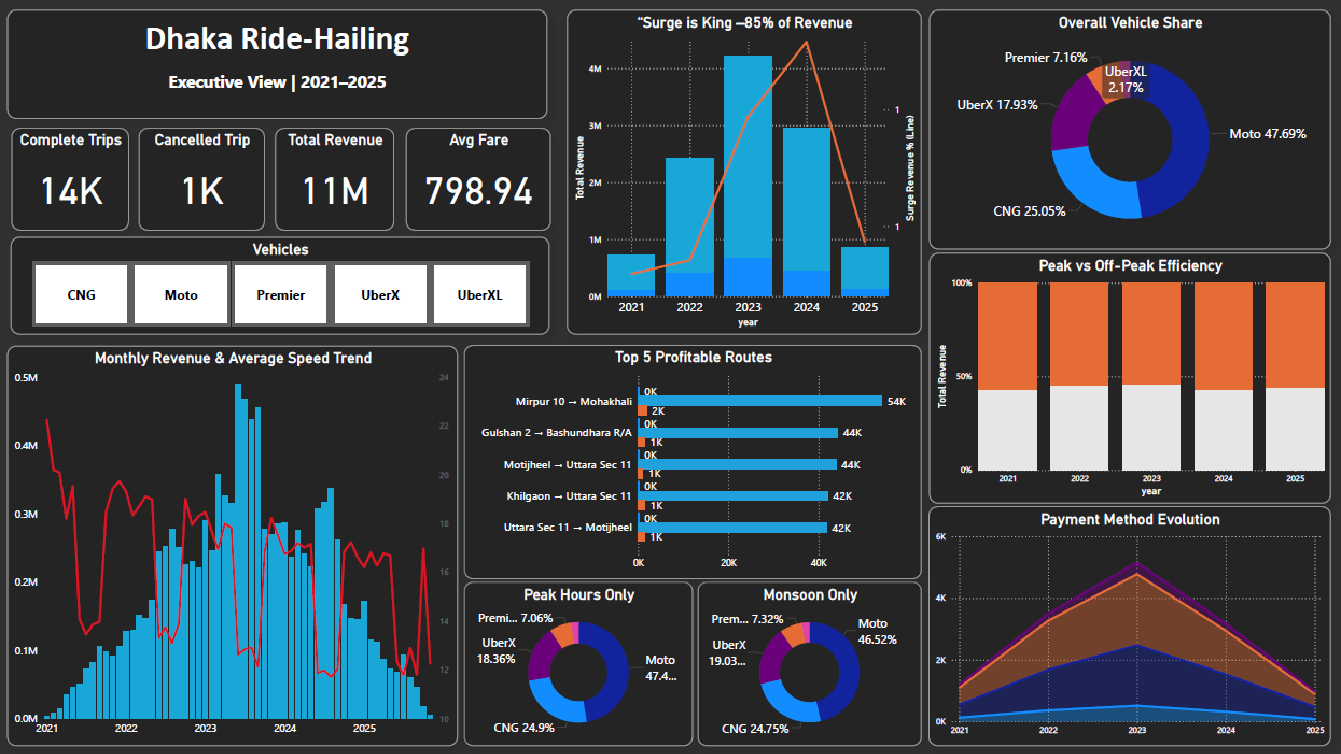

The page's visual inventory and layout, read from the dashboard file:
{"tool":"powerbi","page":{"name":"Page 1","canvas":[1920,1080],"ordinal":0},"visuals":[{"type":"cardVisual","title":"Complete Trips","fields":{"Data":["trips.Completed Trips"]},"box":[14.6,182.8,168.6,147.1],"z":0},{"type":"cardVisual","title":"Cancelled Trip","fields":{"Data":["trips.Cancelled Trips"]},"box":[197.5,182.8,180,147.1],"z":1000},{"type":"cardVisual","title":"Total Revenue","fields":{"Data":["trips.Total Revenue"]},"box":[391.8,182.8,170,147.1],"z":2000},{"type":"cardVisual","title":"Avg Fare","fields":{"Data":["trips.Avg Fare"]},"box":[578.9,182.8,207.1,147.1],"z":3000},{"type":"slicer","title":"Vehicles","fields":{"Values":["trips.vehicle_type"]},"box":[13.9,339,770.5,140.2],"z":4000},{"type":"textbox","box":[8.6,14.3,772.9,155.7],"z":5000},{"type":"lineStackedColumnComboChart","title":"“Surge is King –85% of Revenue","fields":{"Category":["trips.year"],"Series":["trips.is_surge"],"Y":["trips.Total Revenue"],"Y2":["trips.Surge Revenue % (Line)"]},"box":[808.6,14.3,507.1,464.3],"z":6000},{"type":"donutChart","title":"Overall Vehicle Share","fields":{"Category":["trips.vehicle_type"],"Y":["trips.Completed Trips"]},"box":[1326.7,14.4,574.4,342.2],"z":7000},{"type":"donutChart","title":"Peak Hours Only","fields":{"Category":["trips.vehicle_type"],"Y":["trips.Completed Trips"]},"box":[662.2,833.3,326.7,234.4],"z":8000},{"type":"donutChart","title":"Monsoon Only","fields":{"Category":["trips.vehicle_type"],"Y":["trips.Completed Trips"]},"box":[995.6,833.3,320,234.4],"z":9000},{"type":"clusteredBarChart","title":"Top 5 Profitable Routes","fields":{"Category":["trips.Routee"],"Y":["trips.Completed Trips","trips.Total Revenue","trips.Avg Fare"]},"box":[662.2,494.4,653.3,334.4],"z":10000},{"type":"lineClusteredColumnComboChart","title":"Monthly Revenue & Average Speed Trend","fields":{"Y2":["trips.Avg Speed"],"Y":["trips.Total Revenue"],"Category":["trips.Start of Month"]},"box":[8.8,495,643.8,572.5],"z":11000},{"type":"hundredPercentStackedColumnChart","title":"Peak vs Off-Peak Efficiency","fields":{"Category":["trips.year"],"Y":["trips.Total Revenue"],"Series":["trips.is_peak_hour"]},"box":[1326.7,362.2,574.4,358.9],"z":12000},{"type":"stackedAreaChart","title":"Payment Method Evolution","fields":{"Category":["trips.pickup_datetime.Variation.Date Hierarchy.Year","trips.pickup_datetime.Variation.Date Hierarchy.Month"],"Y":["trips.Completed Trips"],"Series":["trips.payment_method"]},"box":[1326.2,725,575,342.5],"z":13000}]}

Visuals, with their boxes in screenshot pixels (x1, y1, x2, y2), scaled from the page's 1920x1080 canvas onto the 1341x754 screenshot:
"Complete Trips" cardVisual: 10,128,128,230
"Cancelled Trip" cardVisual: 138,128,264,230
"Total Revenue" cardVisual: 274,128,392,230
"Avg Fare" cardVisual: 404,128,549,230
"Vehicles" slicer: 10,237,548,335
textbox: 6,10,546,119
"“Surge is King –85% of Revenue" lineStackedColumnComboChart: 565,10,919,334
"Overall Vehicle Share" donutChart: 927,10,1328,249
"Peak Hours Only" donutChart: 463,582,691,745
"Monsoon Only" donutChart: 695,582,919,745
"Top 5 Profitable Routes" clusteredBarChart: 463,345,919,579
"Monthly Revenue & Average Speed Trend" lineClusteredColumnComboChart: 6,346,456,745
"Peak vs Off-Peak Efficiency" hundredPercentStackedColumnChart: 927,253,1328,503
"Payment Method Evolution" stackedAreaChart: 926,506,1328,745
